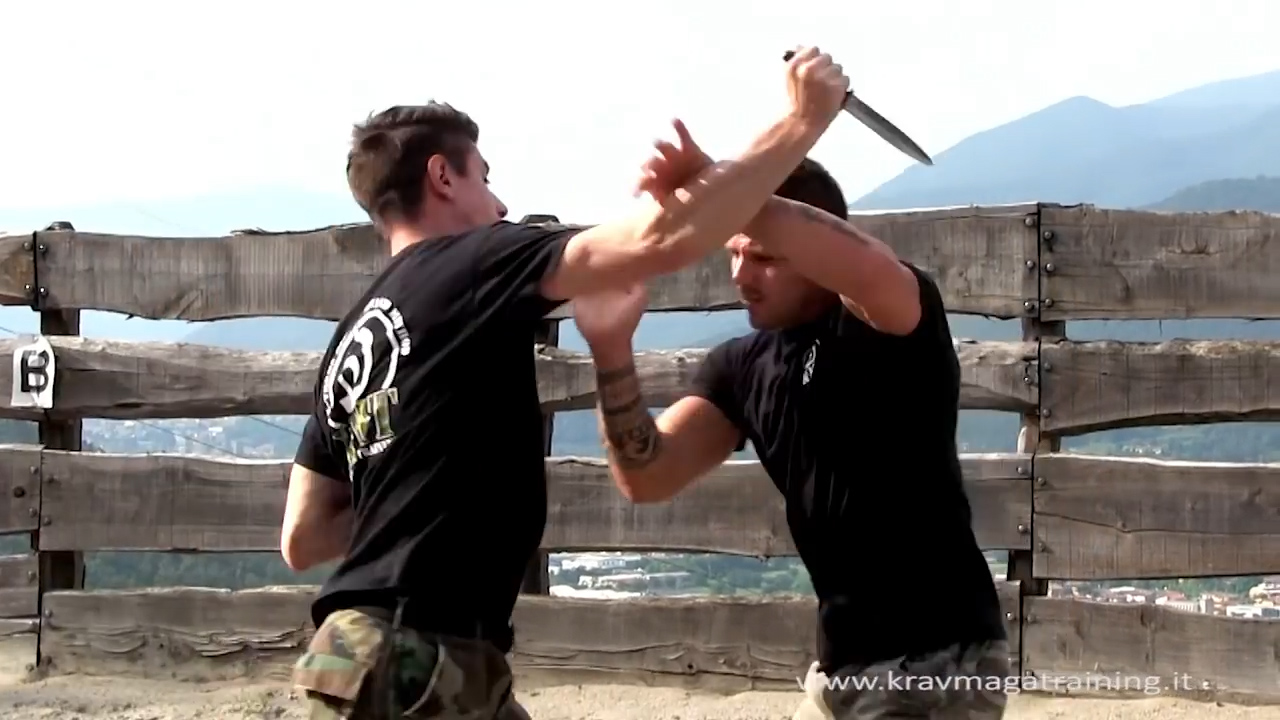knife: (774, 43, 943, 175)
